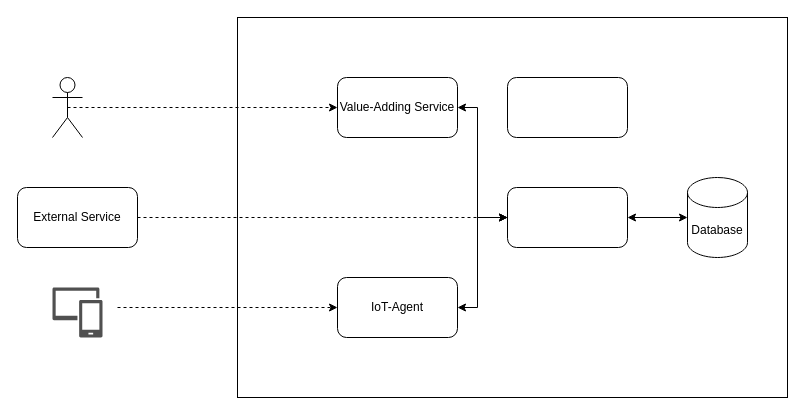
This 805x415 diagram has some shape labels left out. The shapes that lost their labels are listed below. From the top down, each one's box as (x1, y1, x2, y2) in pixels, then its label:
(506, 76, 628, 138): IDM - Component
(506, 186, 628, 248): Context Broker
